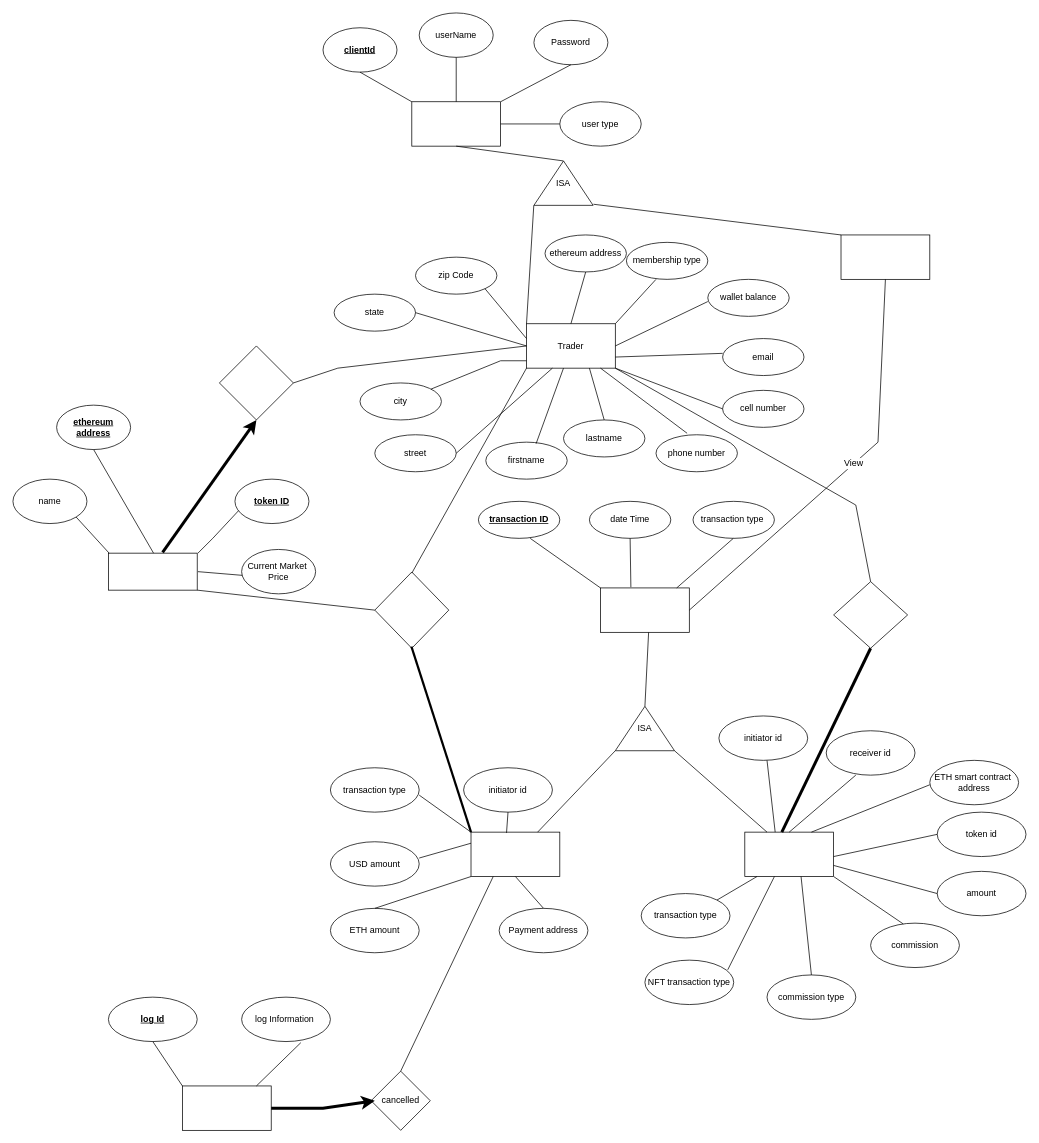
Some shapes in this 1039 by 1143 pixel diagram are drawn without their labels. Here are the shapes that lost their labels. From the top down, the centre of each, then its label:
At (x=456, y=123): "User".
At (x=885, y=256): "Manager".
At (x=256, y=382): "owns".
At (x=152, y=571): "NFT".
At (x=411, y=609): "Buy/Sell".
At (x=644, y=609): "Transaction".
At (x=870, y=614): "add/withdraw".
At (x=515, y=854): "NFT Transaction".
At (x=789, y=854): "Wallet Transaction".
At (x=226, y=1107): "Cancellation Logs".
